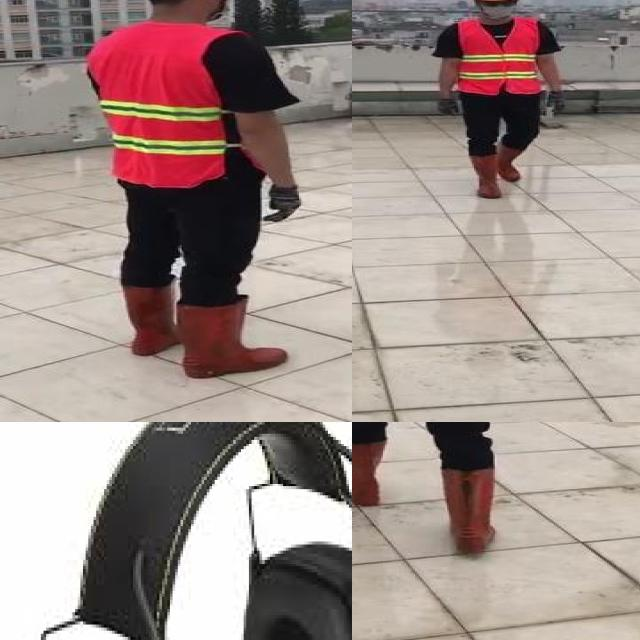Ear-protection: (238, 536, 352, 640)
boots: (174, 294, 291, 380), (440, 465, 504, 557), (112, 280, 178, 359), (352, 440, 395, 506), (469, 153, 504, 199), (494, 145, 524, 183)
face_mask: (473, 0, 518, 18)
glasses: (479, 0, 518, 9)
hand_glove: (264, 184, 302, 225), (436, 95, 462, 118), (545, 92, 565, 115)
person: (82, 0, 309, 378), (352, 422, 570, 569), (430, 0, 570, 205)
vest: (84, 20, 231, 191), (460, 19, 543, 95)
